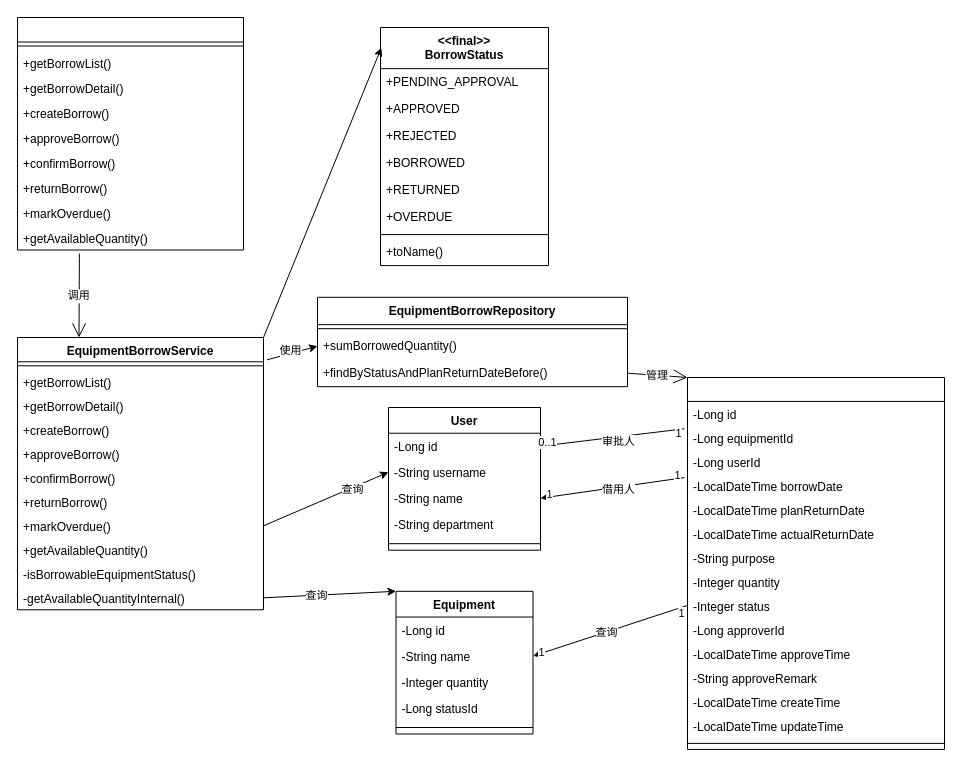
Some shapes in this 962 by 767 pixel diagram are drawn without their labels. Here are the shapes that lost their labels. From the top down, the box of each, then its label:
(16, 16, 244, 250): EquipmentBorrowController
(686, 376, 944, 749): EquipmentBorrow
